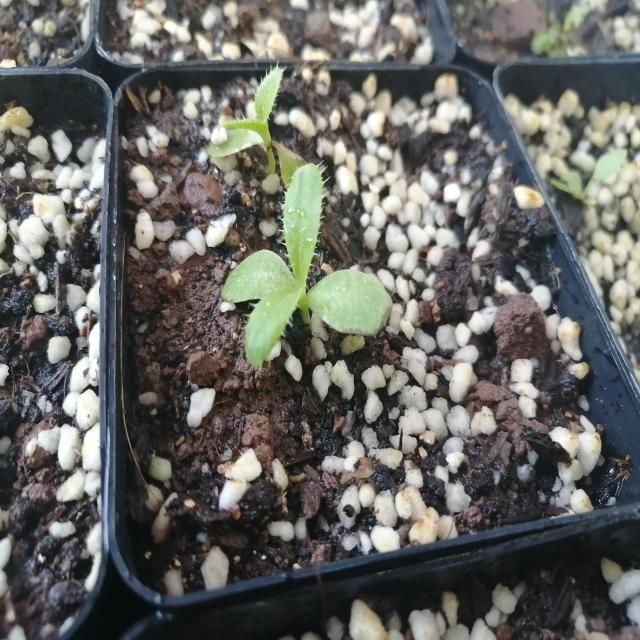field_thistle: (226, 169, 422, 393), (186, 50, 304, 201)
